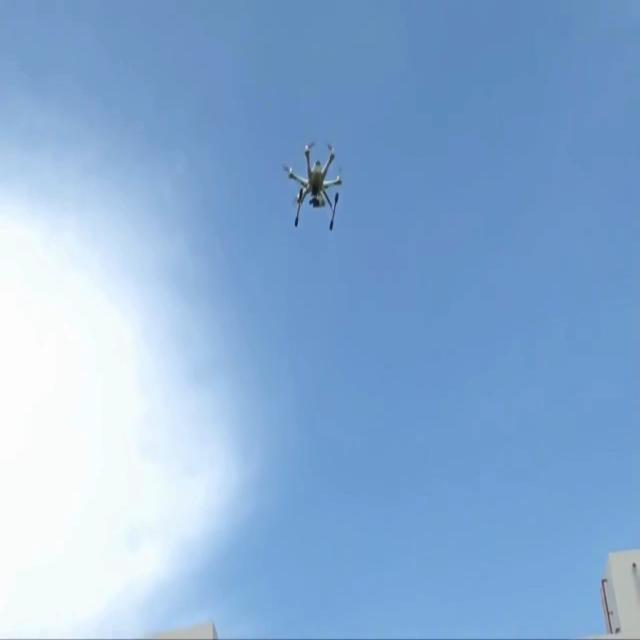drone: (283, 140, 342, 230)
